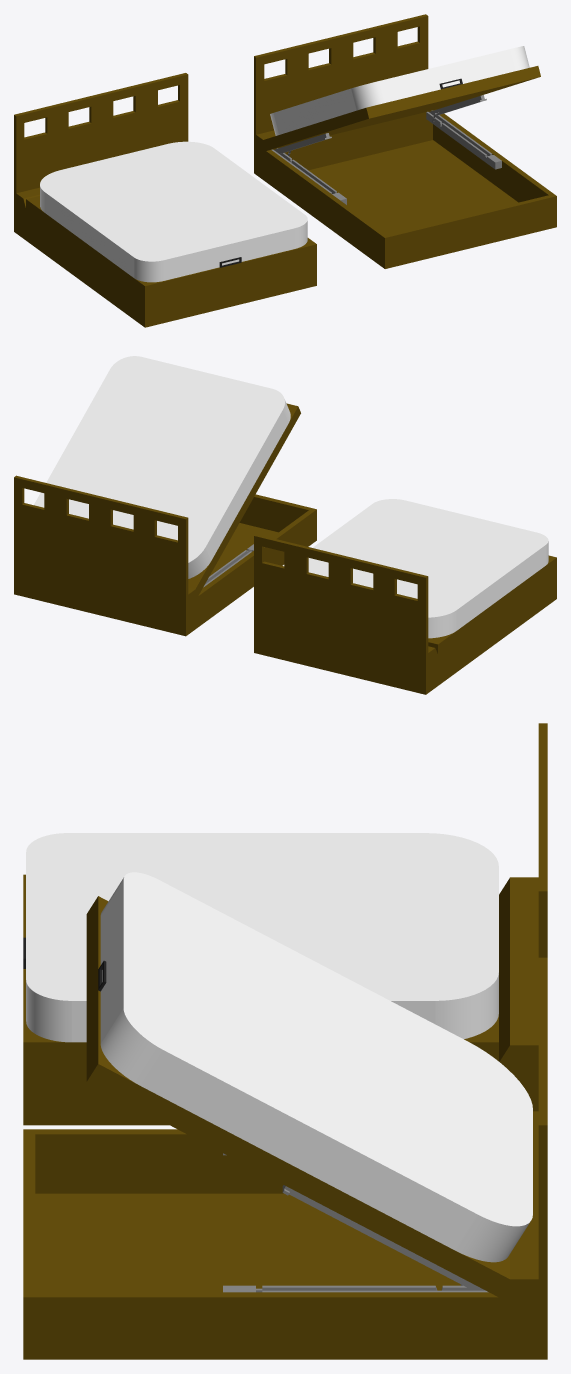
File: bed with storage.dae
3 renders of one model, top to bottom at view 1: azimuth 30°, elevation 25°; view 2: azimuth 150°, elevation 25°; view 3: azimuth 270°, elevation 25°, orthographic. The views are drawn at different scales.
Parts seen in each view (by area): view 1: Group4, Group8, Group2, Group9, Group7, Group3, Group21, Group33; view 2: Group9, Group2, Group7, Group4, Group8, Group3; view 3: Group9, Group8, Group4, Group2, Group3, Group7, Group21, Group18.
Part boxes in pixels (left/top/right/bottom): Group4: left=26, top=141, right=316, bottom=296; Group8: left=256, top=109, right=556, bottom=268; Group2: left=14, top=73, right=188, bottom=232; Group9: left=263, top=46, right=540, bottom=150; Group7: left=254, top=14, right=428, bottom=174; Group3: left=16, top=202, right=316, bottom=327; Group21: left=426, top=110, right=501, bottom=169; Group33: left=271, top=148, right=346, bottom=204; Group9: left=34, top=356, right=300, bottom=595; Group2: left=254, top=534, right=437, bottom=694; Group7: left=14, top=475, right=197, bottom=636; Group4: left=308, top=499, right=556, bottom=654; Group8: left=188, top=494, right=316, bottom=634; Group3: left=428, top=568, right=556, bottom=692; Group9: left=86, top=872, right=532, bottom=1296; Group8: left=23, top=1129, right=538, bottom=1359; Group4: left=23, top=833, right=498, bottom=1063; Group2: left=499, top=723, right=547, bottom=1063; Group3: left=23, top=1063, right=538, bottom=1125; Group7: left=499, top=957, right=547, bottom=1359; Group21: left=223, top=1285, right=488, bottom=1292; Group18: left=282, top=1185, right=485, bottom=1290.
Size of the model in its own units: 159 by 87.75 by 61.03.
